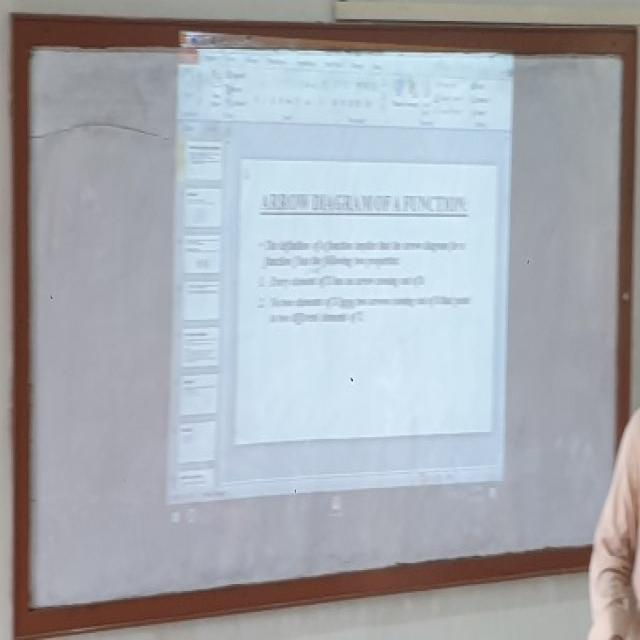Slide: (162, 24, 513, 531)
White-board: (17, 45, 634, 628)
